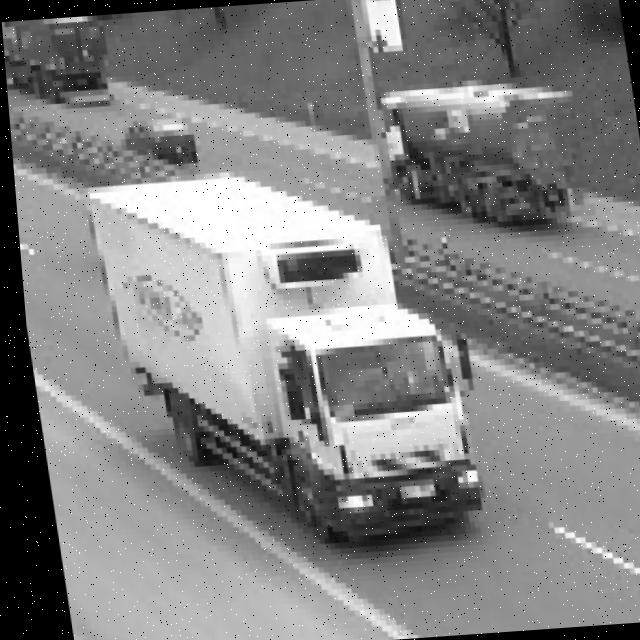truck: (242, 285, 501, 545), (371, 62, 599, 241)
